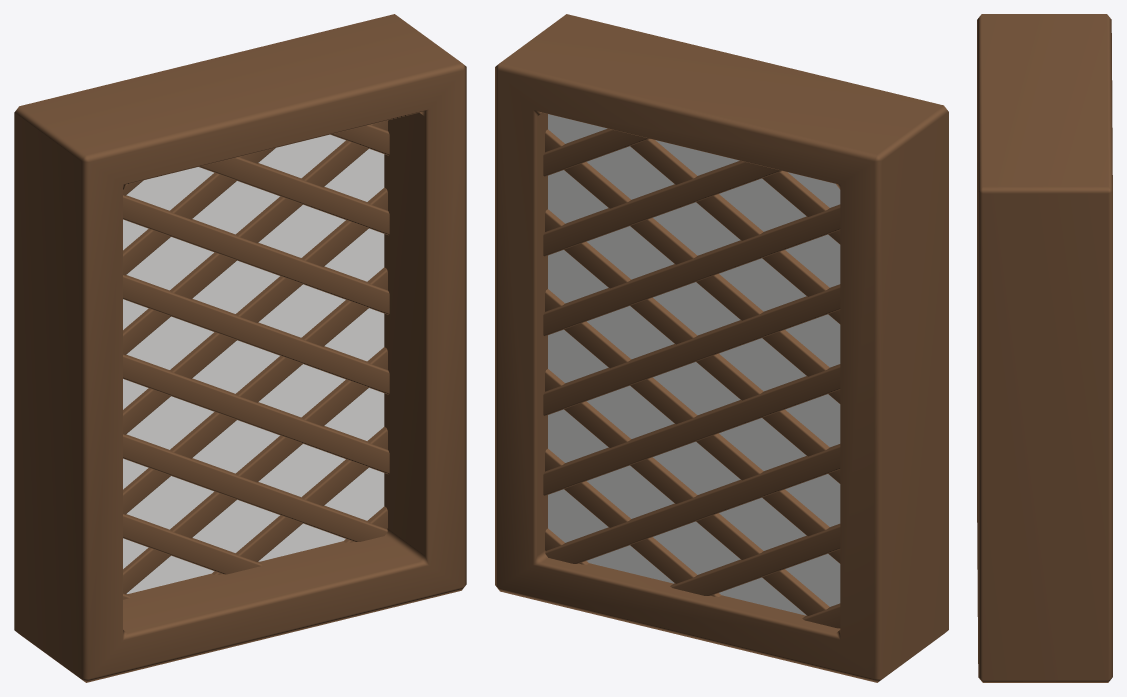
File: Window_13.glb
3 views of the same model, side by side, from view 1: azimuth 30°, elevation 25°; view 2: azimuth 150°, elevation 25°; view 3: azimuth 270°, elevation 25° (orthographic). The views are drawn at different scales.
Visible parts, largest first — view 1: Window_13; view 2: Window_13; view 3: Window_13.
Part boxes in pixels (<box>): Window_13: <box>14,14,466,682</box>; Window_13: <box>495,14,948,682</box>; Window_13: <box>977,14,1112,682</box>.
Size of the model in its own units: 1.52 by 1.99 by 0.4932.
2 materials, 2 textured.
